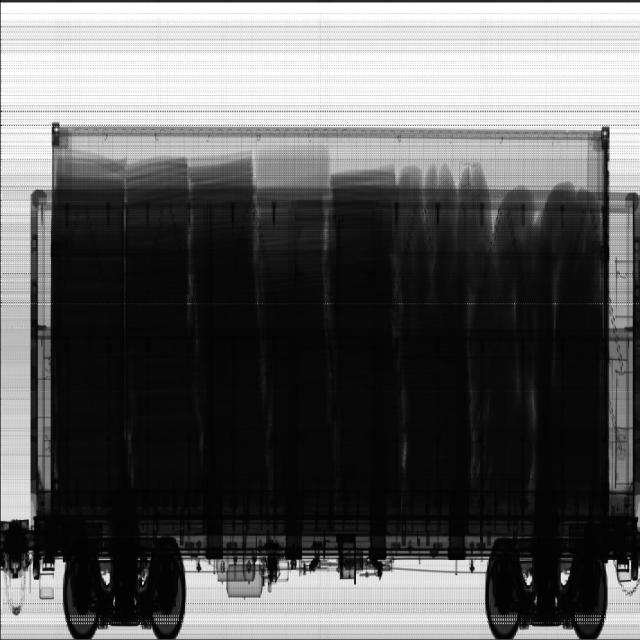fabrics: (56, 153, 605, 503)
